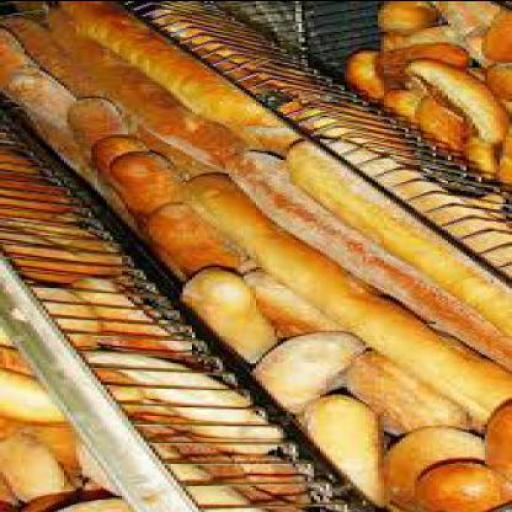biodegradable: (180, 174, 510, 425), (222, 150, 509, 376), (284, 138, 509, 342), (55, 2, 298, 157), (46, 2, 241, 174), (0, 14, 208, 174), (78, 348, 280, 456), (134, 426, 313, 511), (72, 437, 260, 511), (341, 348, 466, 434), (298, 394, 384, 507), (247, 331, 360, 415), (399, 60, 509, 146), (380, 426, 486, 511), (70, 280, 184, 359), (178, 268, 268, 365), (140, 204, 256, 278), (241, 270, 350, 347), (0, 227, 110, 284), (2, 75, 76, 154), (106, 154, 189, 224), (426, 1, 509, 70), (0, 289, 92, 348), (411, 460, 510, 511), (372, 44, 475, 91), (0, 434, 70, 500), (64, 97, 126, 164), (0, 368, 62, 426), (52, 496, 267, 511), (232, 456, 302, 502), (0, 180, 68, 222), (412, 94, 463, 148), (88, 138, 142, 189), (482, 400, 509, 500), (341, 49, 390, 102), (372, 2, 439, 39), (460, 135, 509, 179), (378, 26, 456, 53), (478, 8, 509, 62), (378, 90, 420, 125), (0, 26, 22, 88), (482, 60, 509, 104), (0, 156, 33, 176)
